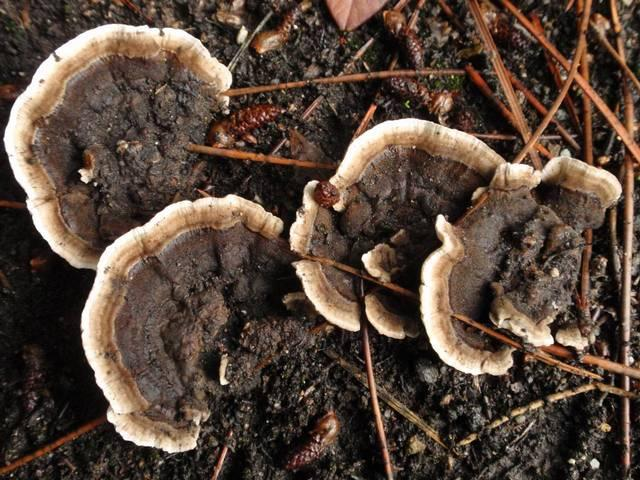poisonous_mushroom: (288, 116, 622, 377), (2, 21, 234, 270), (78, 192, 285, 453)
